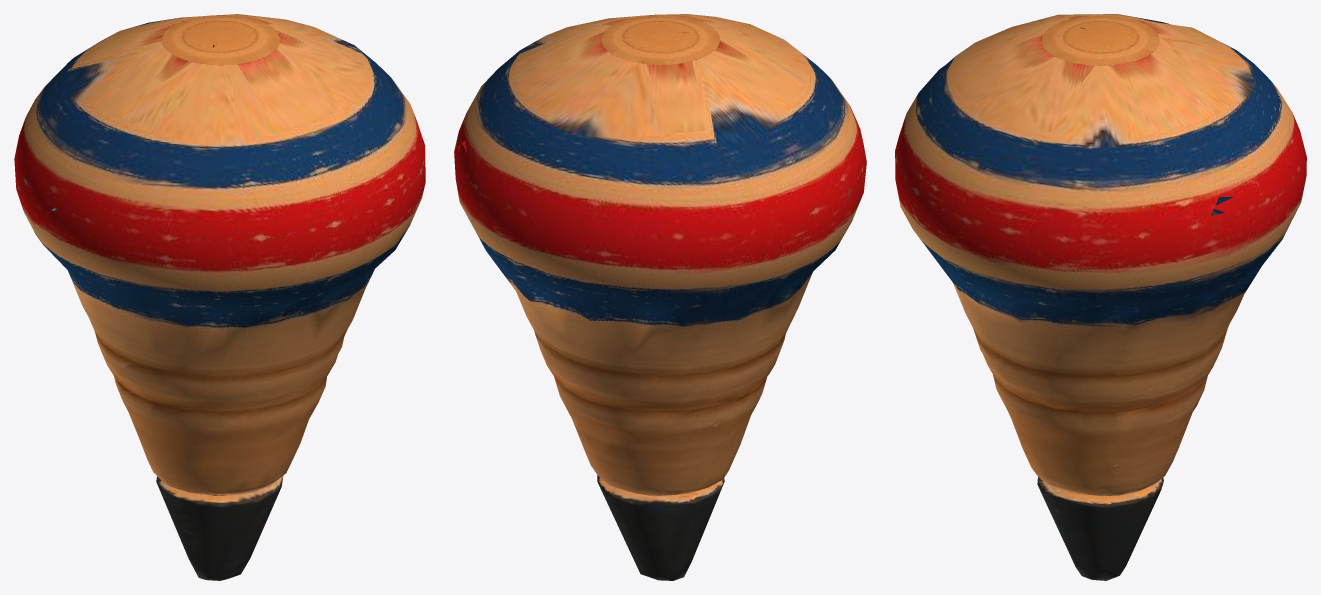
Rendered from trumpo.glb.
3 renders of one model, left to right at view 1: azimuth 30°, elevation 25°; view 2: azimuth 150°, elevation 25°; view 3: azimuth 270°, elevation 25°, orthographic.
Visible parts, largest first — view 1: Mesh0; view 2: Mesh0; view 3: Mesh0.
Boxes of the visible parts, x1,y1,x2,y2 form: Mesh0: (14, 14, 425, 580); Mesh0: (454, 14, 866, 580); Mesh0: (895, 14, 1306, 580).
Bounding box in the file's own units: 0.6993 × 0.9996 × 0.6944.
Materials: 1 (1 with a texture image).
